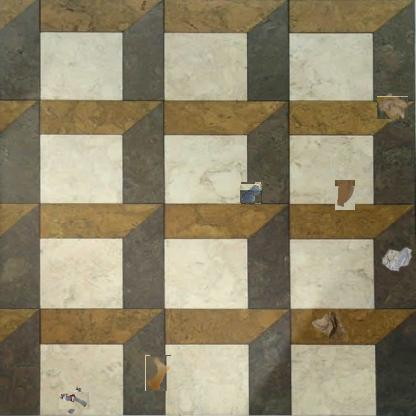dirty: (312, 309, 348, 341), (380, 245, 414, 273), (379, 94, 406, 121), (335, 180, 355, 210), (62, 388, 86, 412)
liquid: (145, 355, 171, 391), (240, 182, 262, 204)
